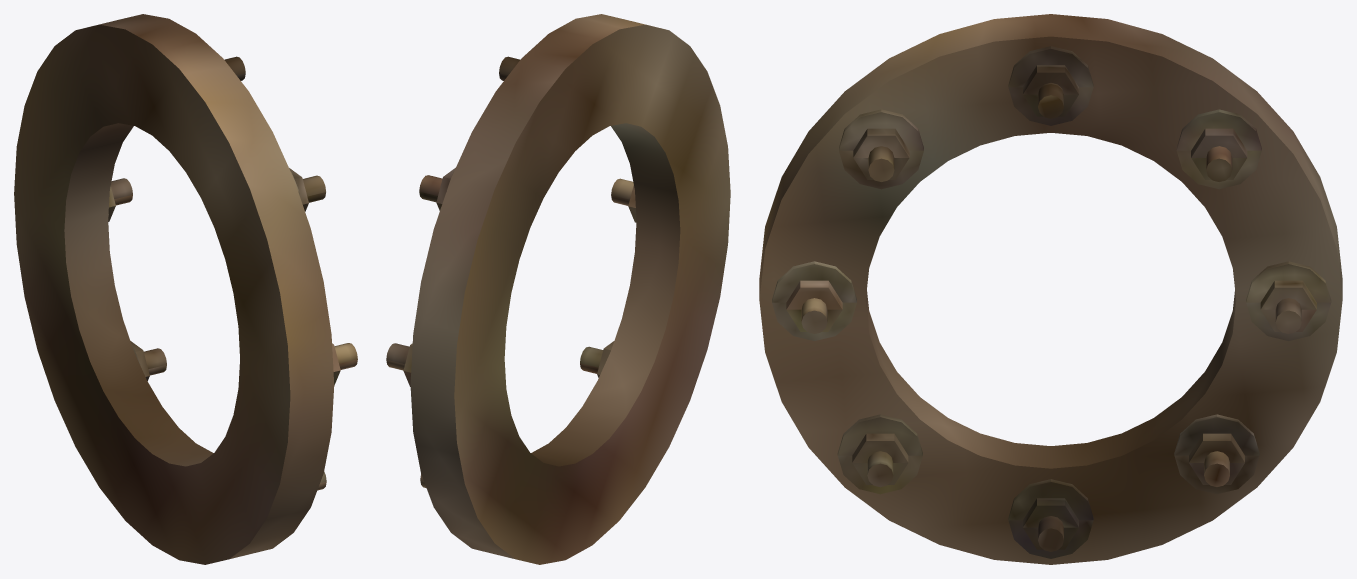
File: pipe-flange.gltf
3 renders of one model, left to right at view 1: azimuth 30°, elevation 25°; view 2: azimuth 150°, elevation 25°; view 3: azimuth 270°, elevation 25°, orthographic. The views are drawn at different scales.
Visible parts, largest first — view 1: Cylinder.005; view 2: Cylinder.005; view 3: Cylinder.005.
Boxes of the visible parts, box(x1,y1,x2,y2) form: Cylinder.005: box(14, 14, 357, 564); Cylinder.005: box(386, 14, 730, 564); Cylinder.005: box(759, 14, 1342, 564).
Size of the model in its own units: 0.0513 by 0.2811 by 0.2811.
Materials: 1 (1 with a texture image).
